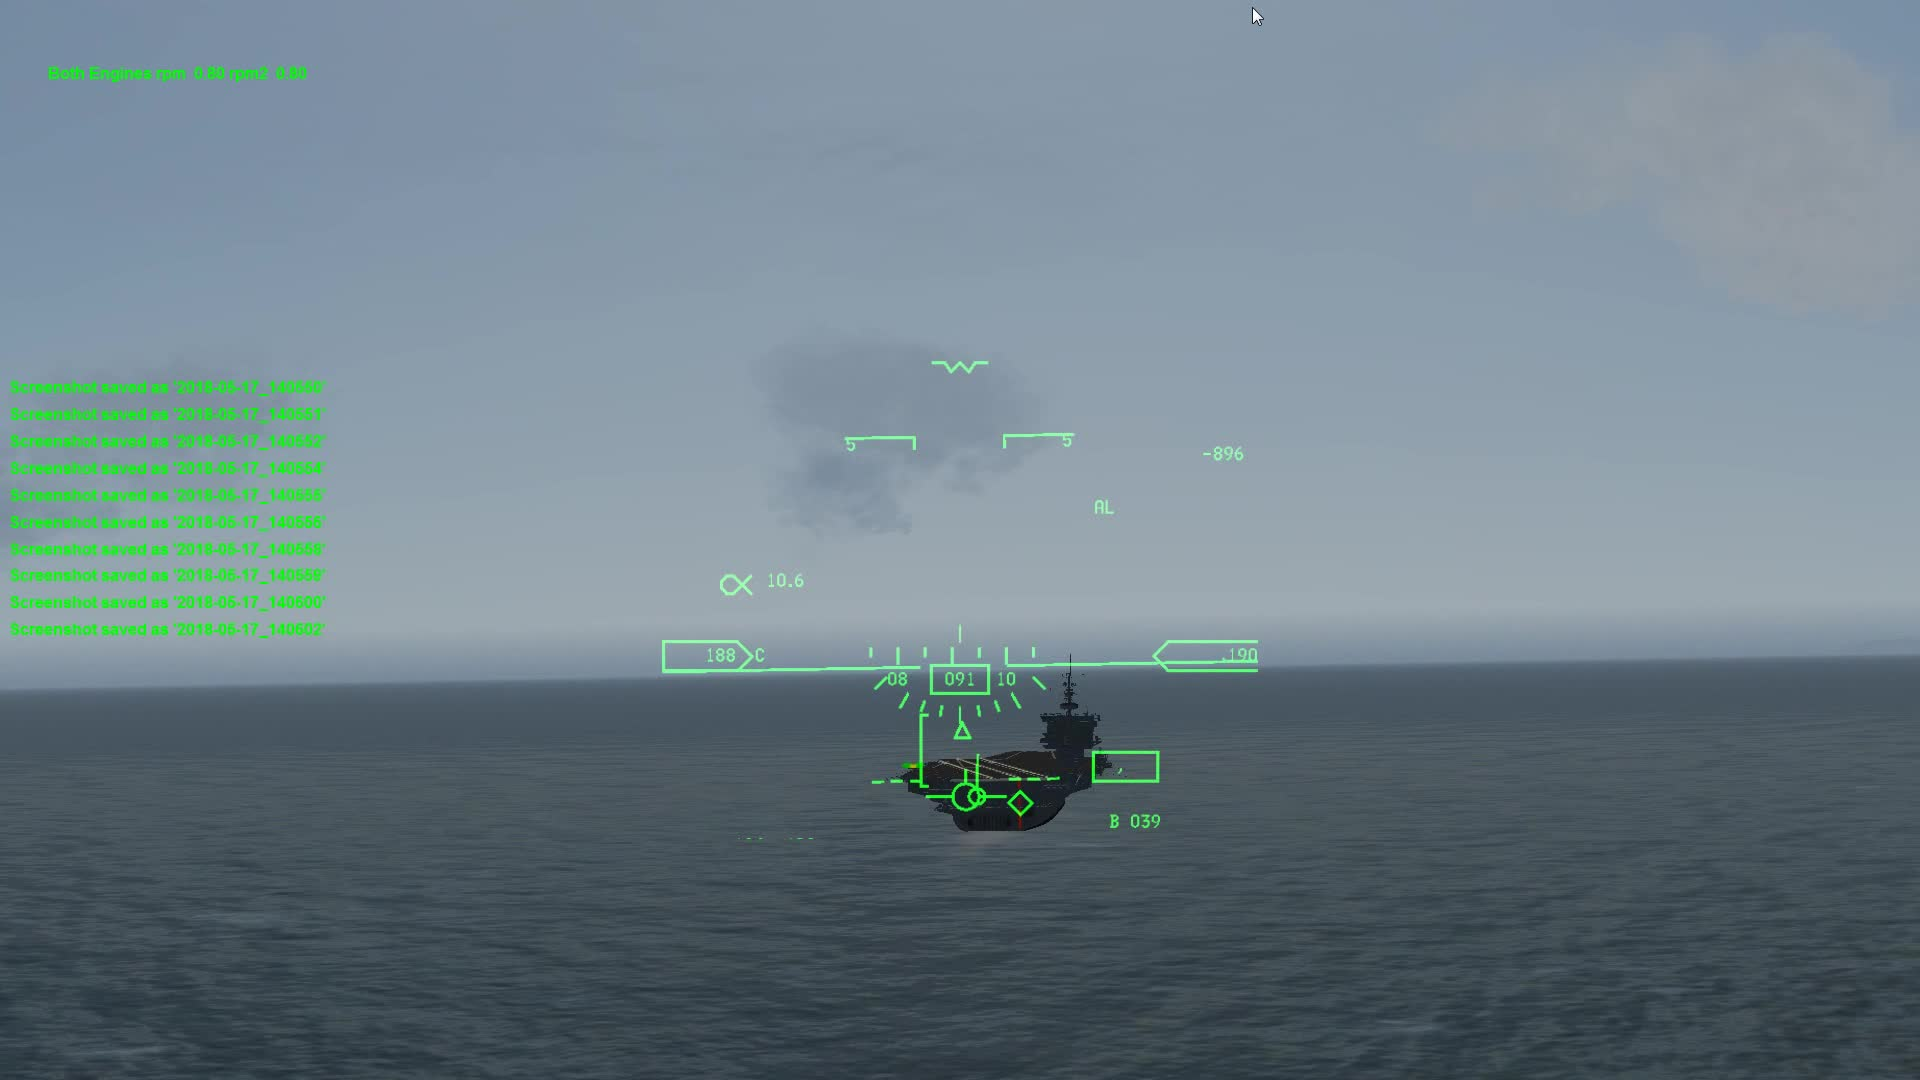speed vector: (930, 764, 1017, 811)
